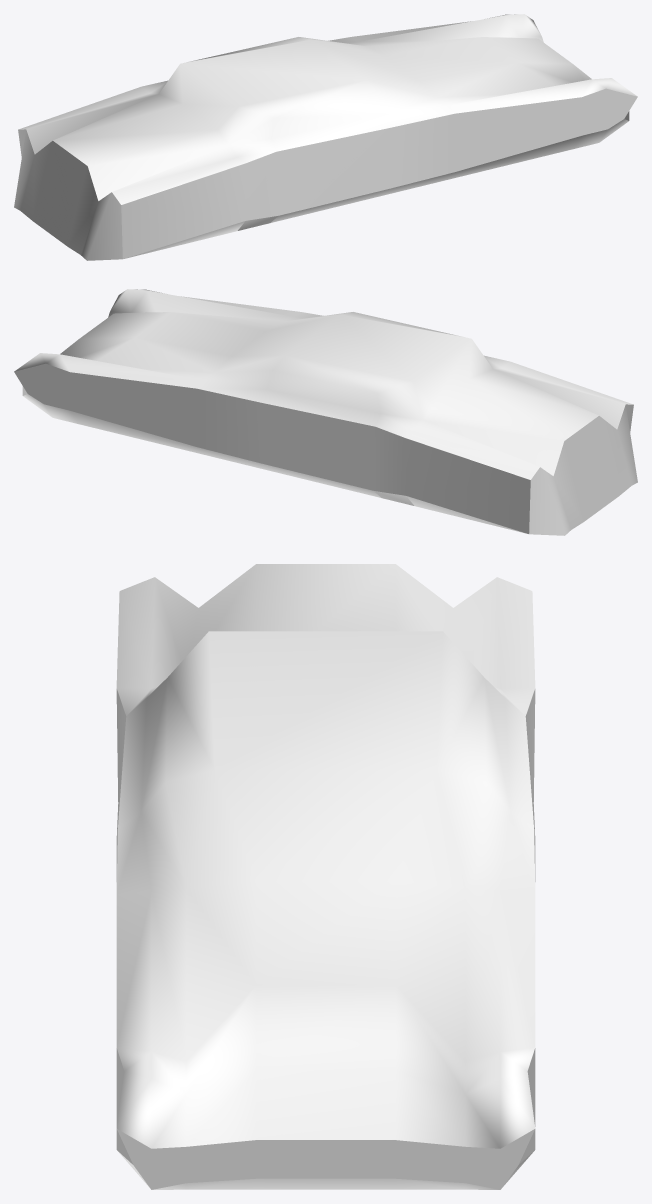
The model's file is CorvegaWorkingCollider.obj.
The picture shows the model from 3 angles, top to bottom: view 1: azimuth 30°, elevation 25°; view 2: azimuth 150°, elevation 25°; view 3: azimuth 270°, elevation 25°; orthographic projection. The views are drawn at different scales.
Parts seen in each view (by area): view 1: CorvegaV8LOD:collider; view 2: CorvegaV8LOD:collider; view 3: CorvegaV8LOD:collider.
Boxes of the visible parts, x1=… form: CorvegaV8LOD:collider: x1=14, y1=14, x2=637, y2=260; CorvegaV8LOD:collider: x1=14, y1=289, x2=637, y2=535; CorvegaV8LOD:collider: x1=116, y1=564, x2=535, y2=1189.
Size of the model in its own units: 543 by 107 by 184.
